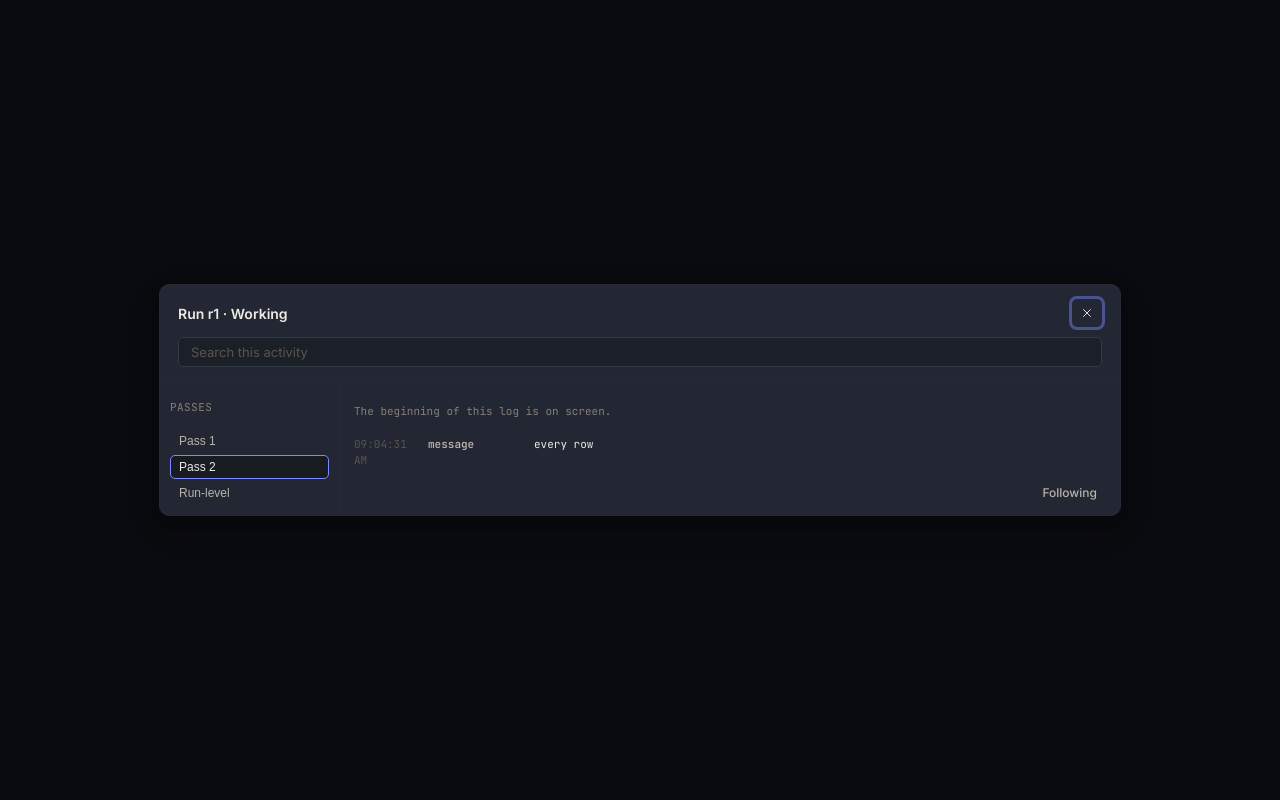
Test: the graduation log window: search › GLW-FR-KEXN: clearing the search returns the viewport to the unfiltered rows
This screenshot has width=1280, height=800.
Check: the text "every row" is shown, box [534, 437, 593, 451]
Step 1. Type "matched" into the search field with test id "glw-search" → x=640, y=352, box [178, 337, 1102, 367]
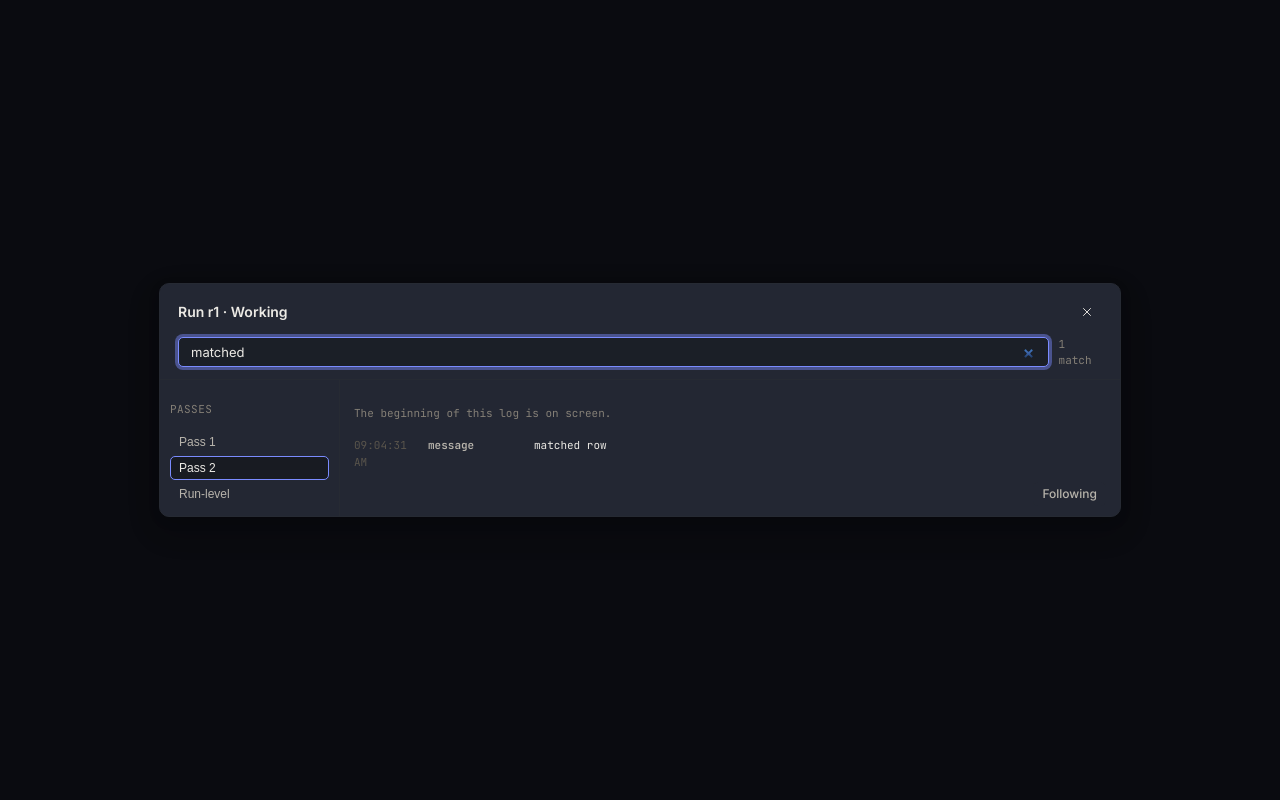
Check: the text "matched row" is shown, box [534, 438, 607, 452]
Step 2. Clear the search field with test id "glw-search" → x=613, y=352, box [178, 337, 1048, 367]
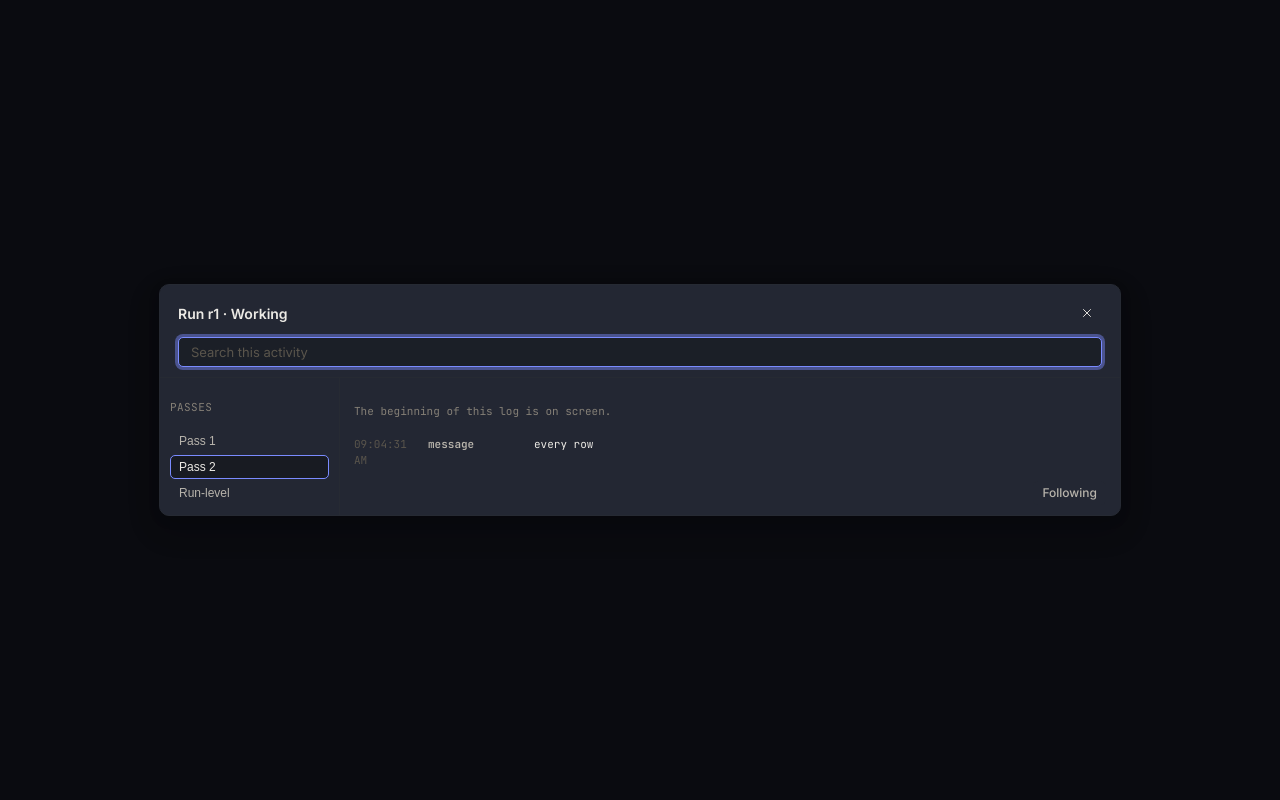
Check: the text "every row" is shown, box [534, 437, 593, 451]
Check: the message with test id "glw-match-count" is gone
